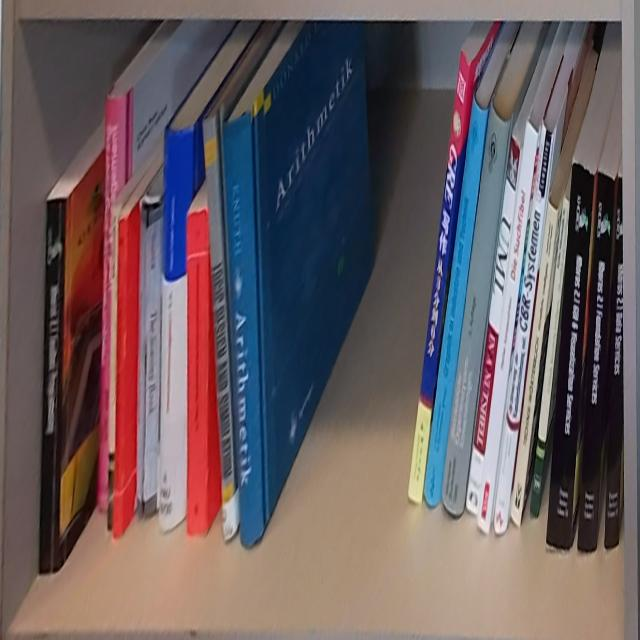Book Spine: (441, 103, 511, 517), (408, 49, 470, 506), (423, 94, 488, 507), (476, 122, 539, 537), (494, 118, 556, 537), (466, 133, 522, 514), (223, 111, 266, 550), (547, 162, 595, 552), (510, 200, 558, 530), (202, 115, 238, 544), (576, 172, 616, 553), (159, 126, 194, 536), (529, 196, 569, 518), (97, 95, 127, 513), (37, 197, 67, 576), (186, 209, 209, 538), (604, 175, 623, 547), (143, 206, 165, 520), (107, 205, 123, 534), (113, 217, 128, 541), (136, 205, 147, 519)
